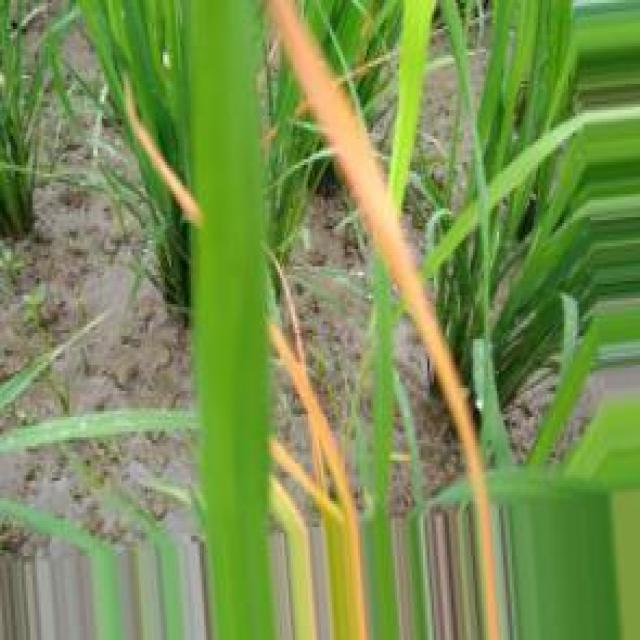Rice Tungro: (269, 0, 496, 638), (270, 324, 367, 638), (269, 322, 365, 637), (124, 78, 203, 226)
